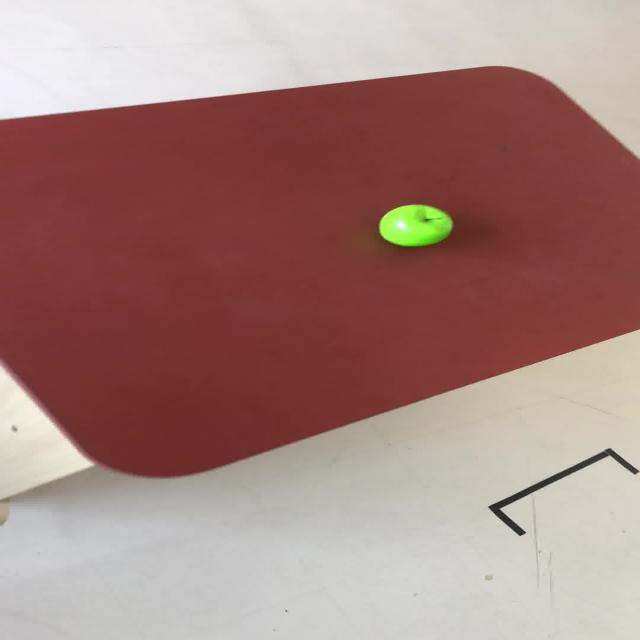apple: (377, 203, 453, 247)
